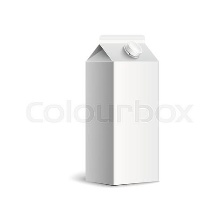carton: (81, 27, 165, 188)
